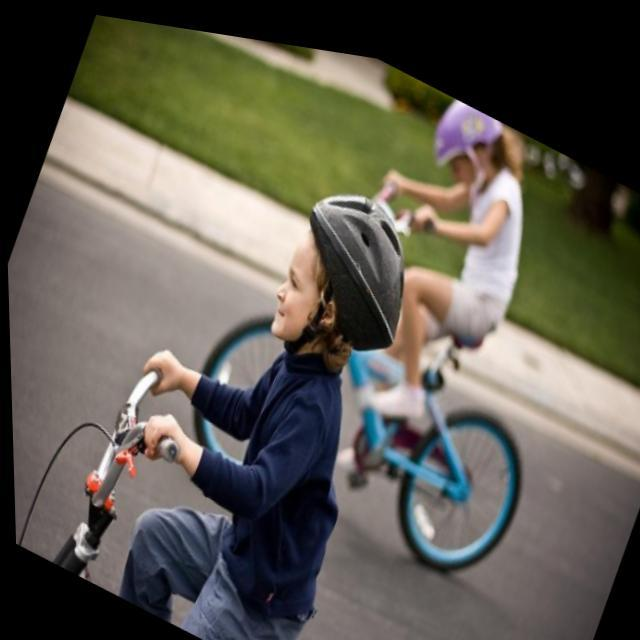Helmet: (259, 191, 409, 352)
